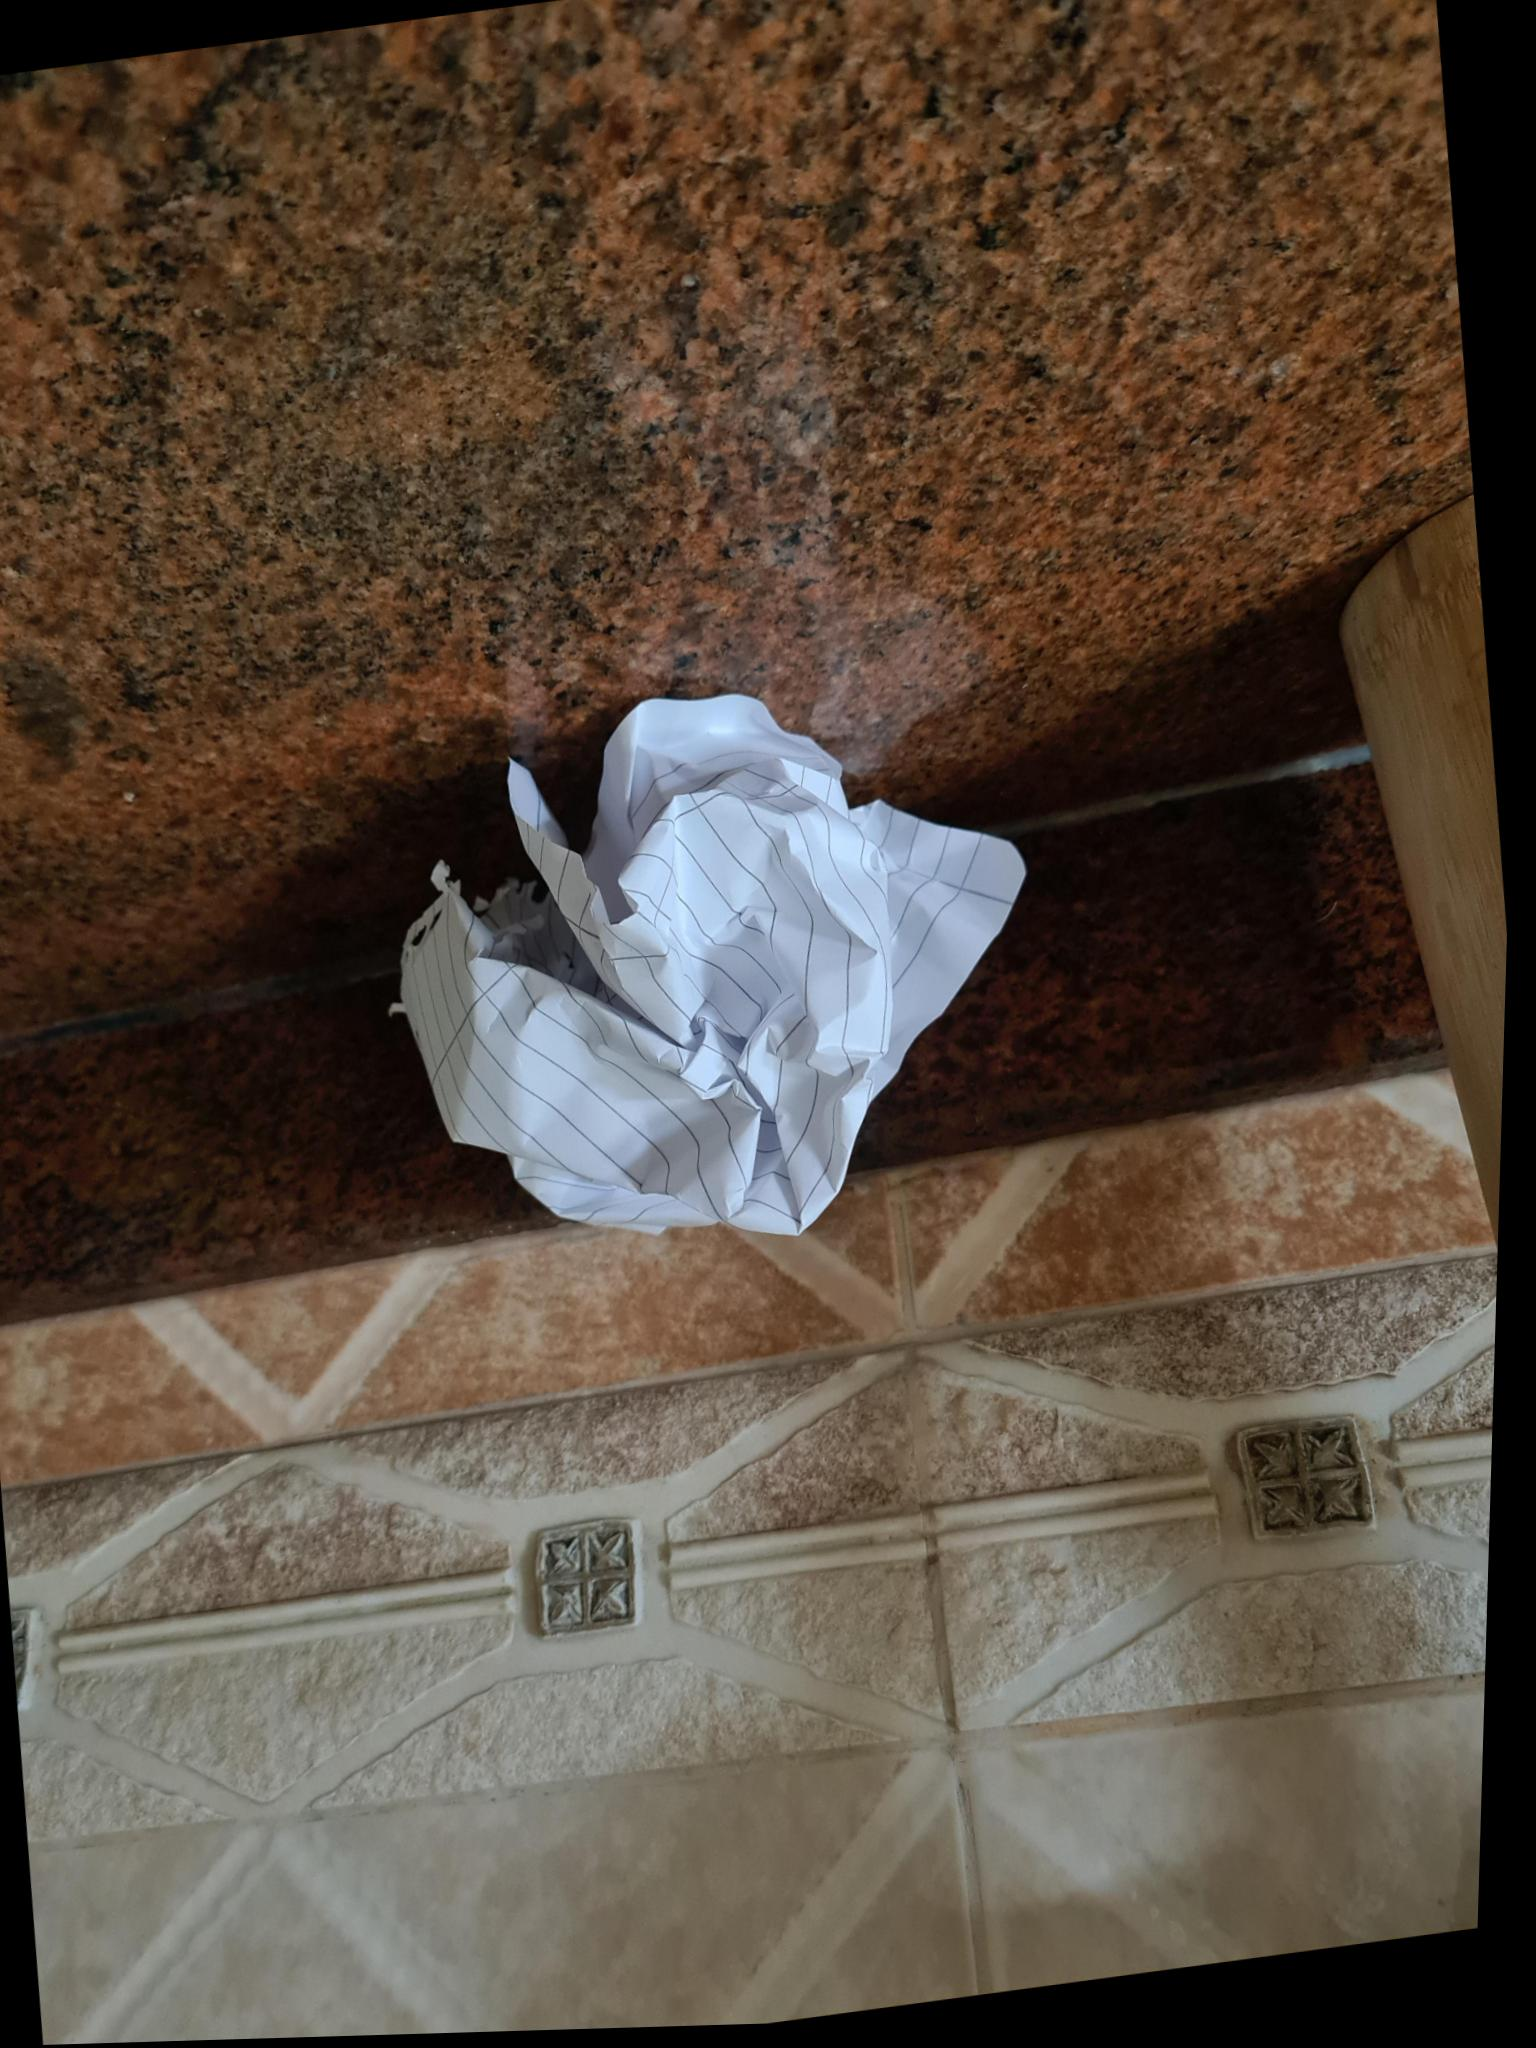paper: (349, 616, 1050, 1284)
